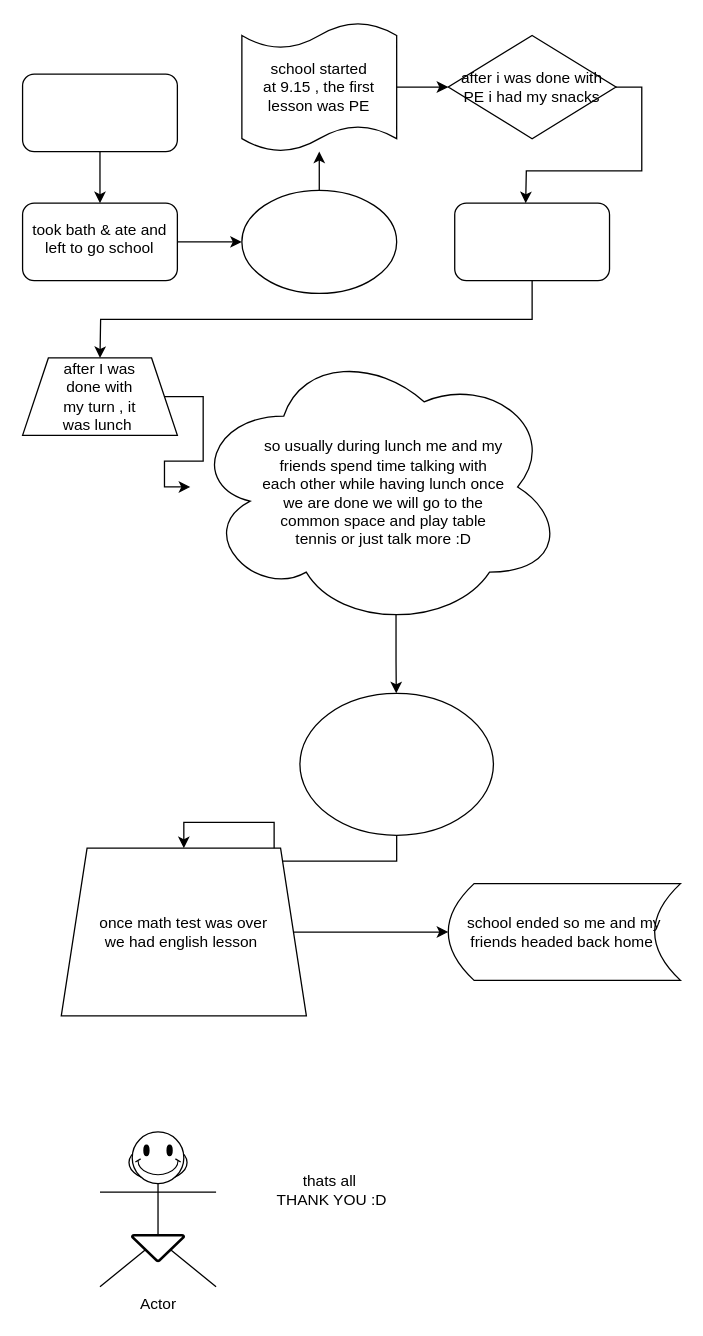
This 703x1336 diagram has some shape labels left out. The centre of each missing label's shape, as x and y in pixels:
after all that fun time we had math test: the point at 396,763
once snack time was over we had GP projects: the point at 531,241
reached school at 8 50: the point at 319,241
woke up at 7: the point at 99,112
